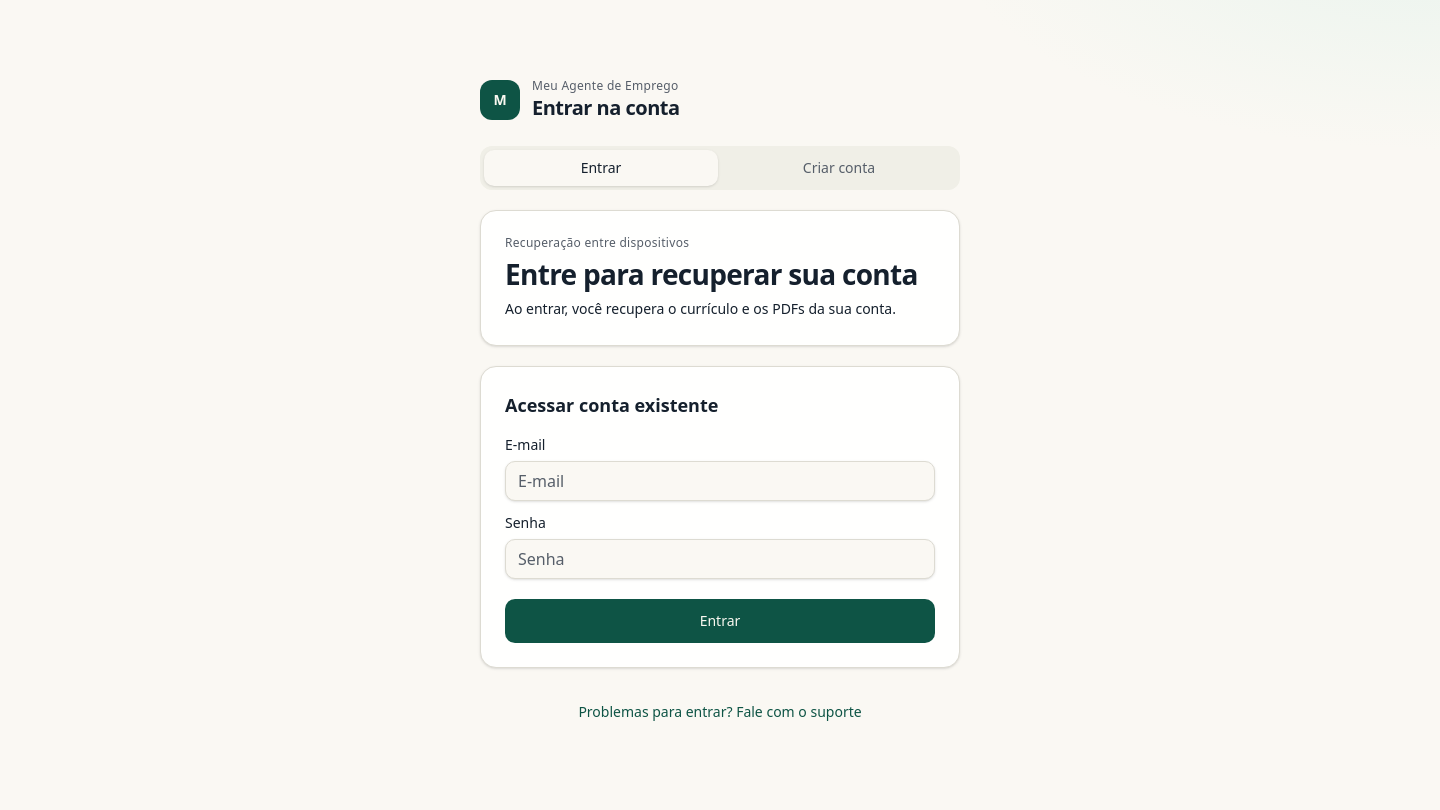
it: BDD W-CV › 4. Com CV o inicio mostra a analise e nao o card de envio
Type "ada@example.com" into the field with test id "login-email".
click(720, 481); type("ada@example.com")  # box x1=505 y1=461 x2=935 y2=501
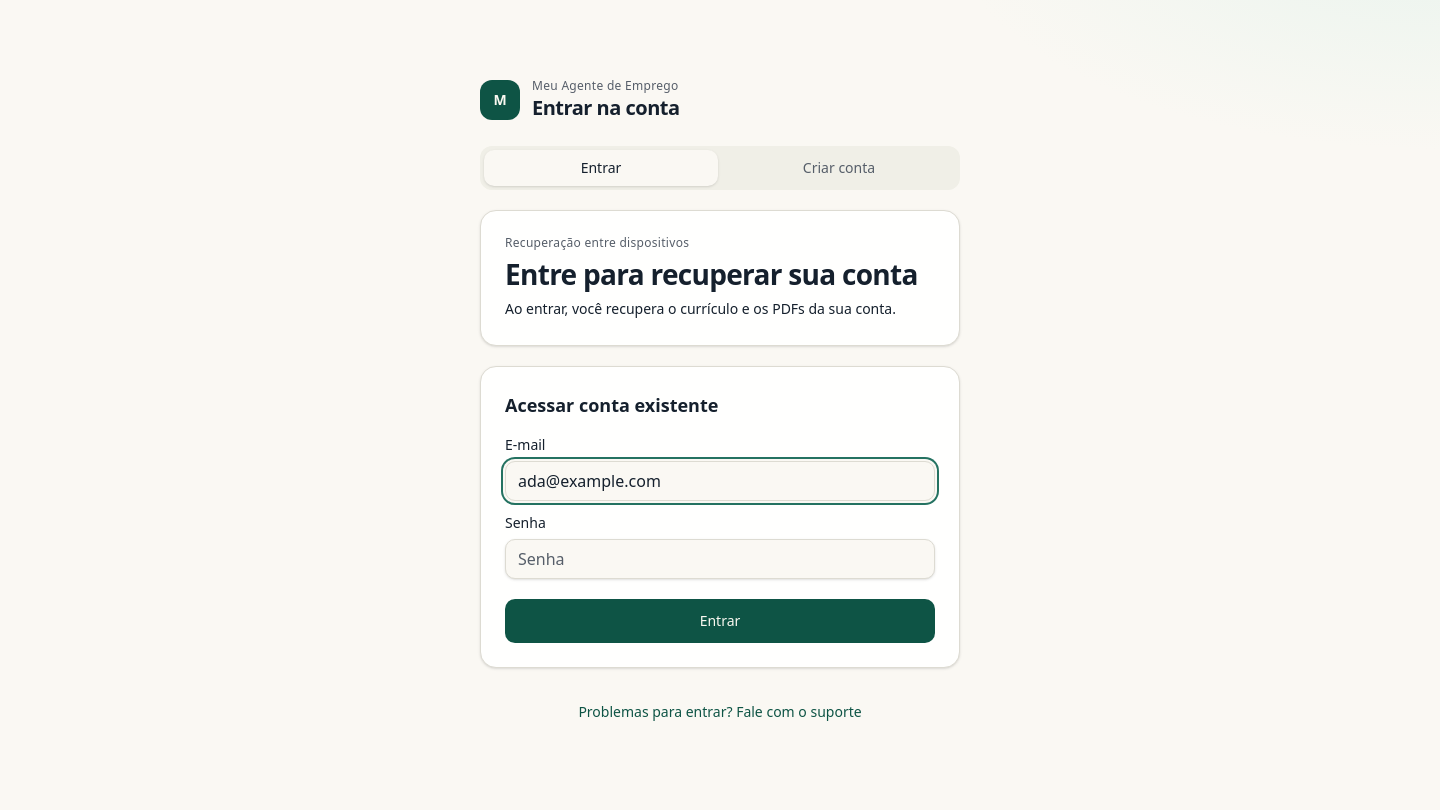
Type "senha-segura" into the password field with test id "login-password".
click(720, 559); type("senha-segura")  # box x1=505 y1=539 x2=935 y2=579
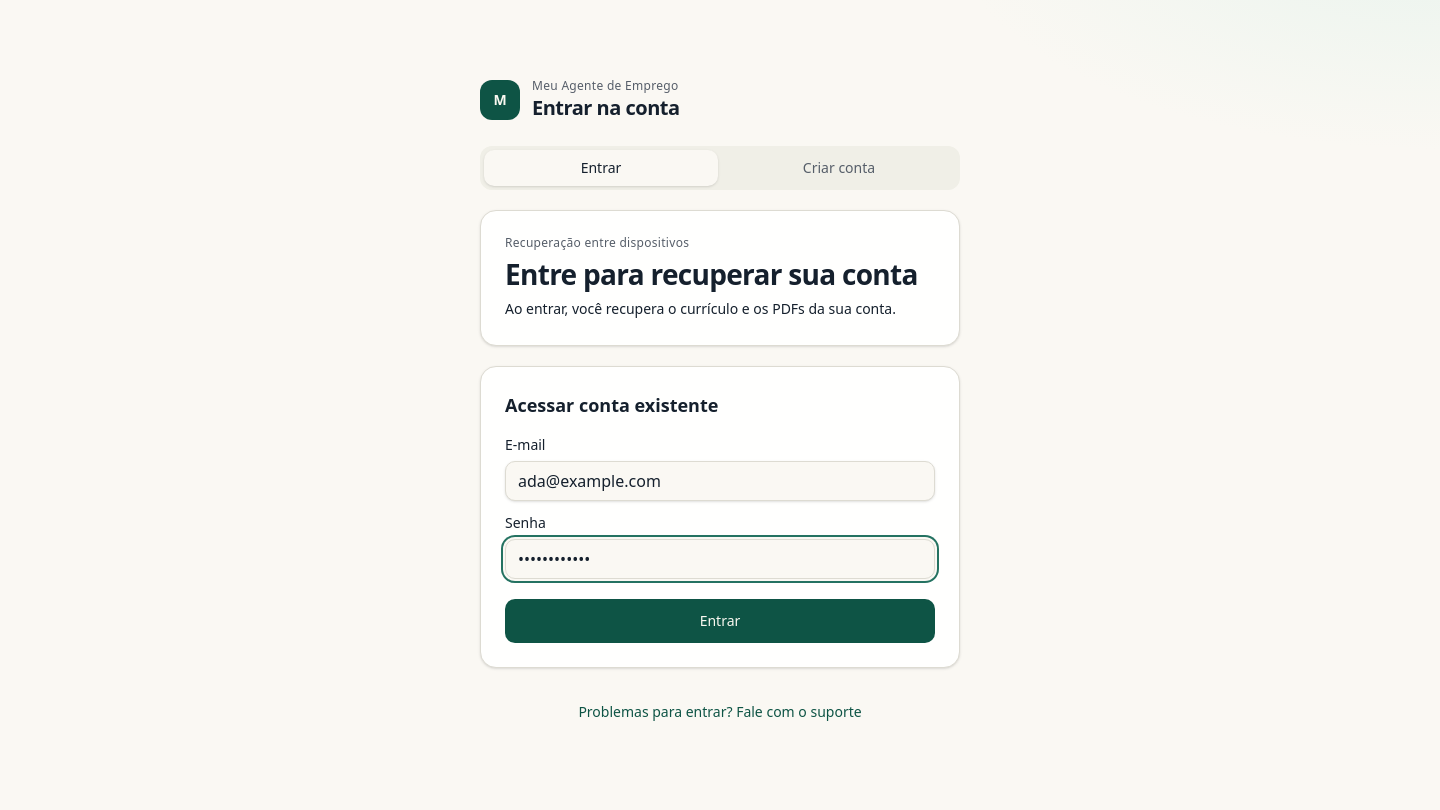
Click the button with test id "login-submit".
click(720, 621)  # box x1=505 y1=599 x2=935 y2=643
(page scrolled)
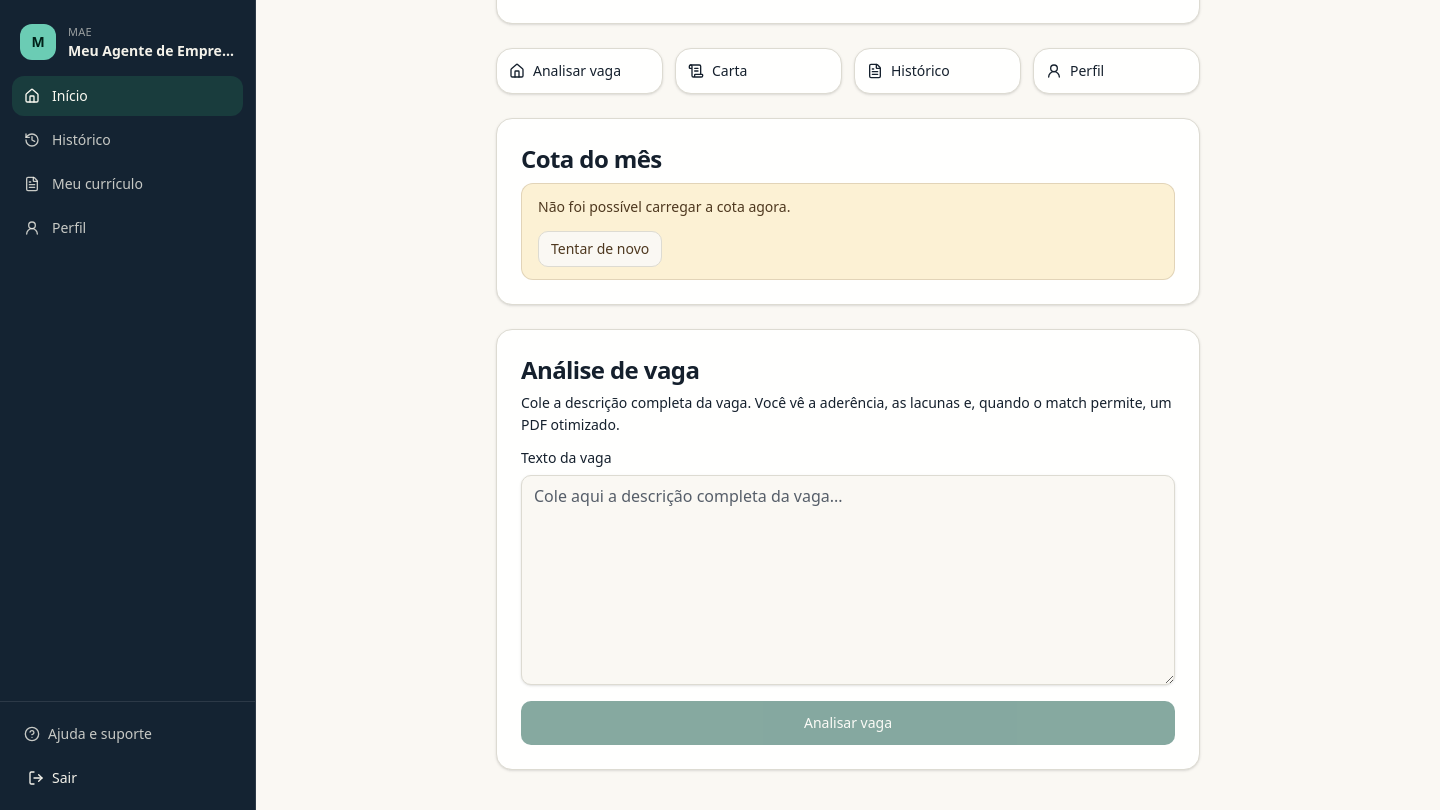
Expected: the element with test id "processar-panel" is shown, x1=496 y1=328 x2=1200 y2=770
Type "Vaga para desenvolvedor Python com requisitos e responsabilidades." into the text box with test id "processar-texto".
click(848, 580); type("Vaga para desenvolvedor Python com requisitos e responsabilidades.")  # box x1=521 y1=475 x2=1175 y2=685
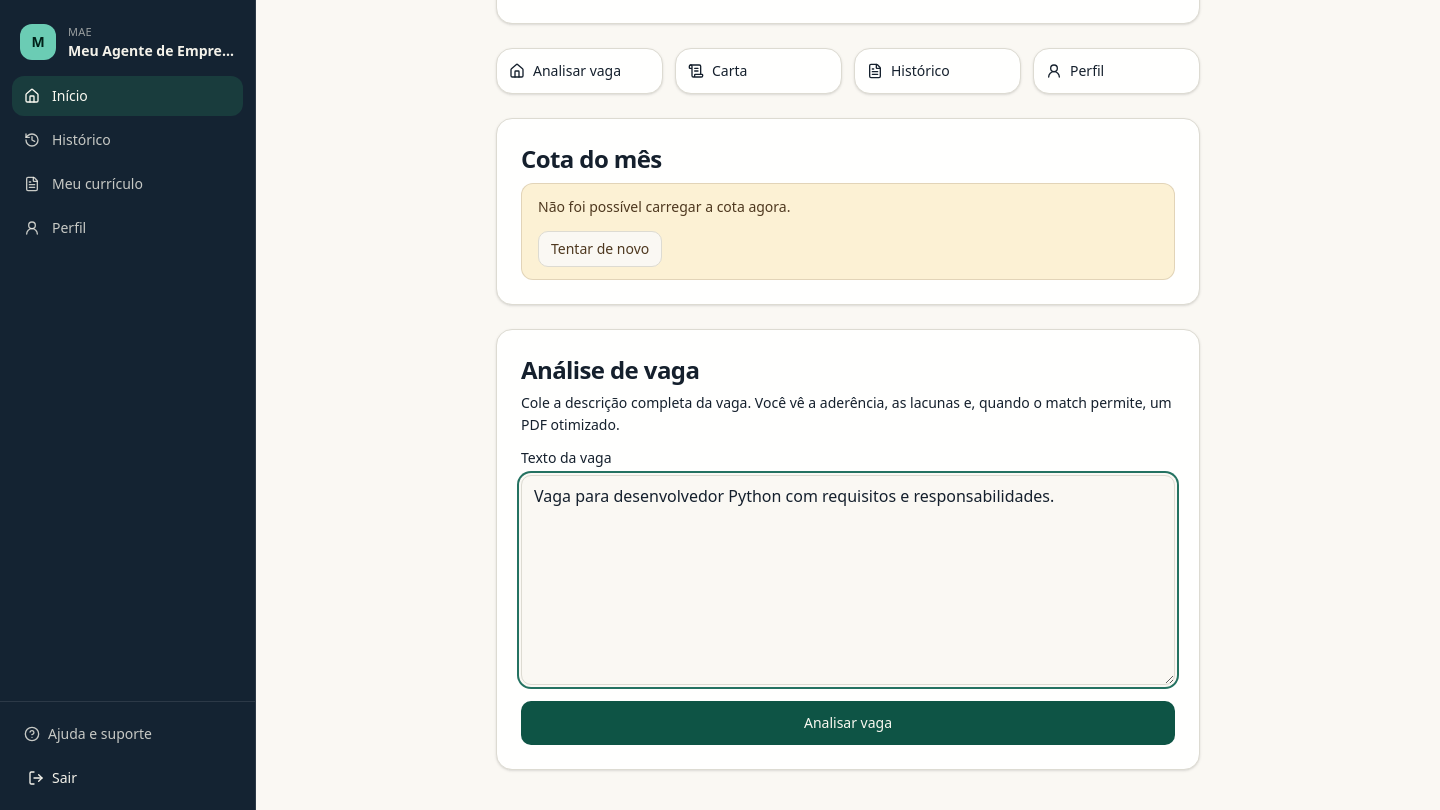
Expected: the button with test id "processar-submit" is enabled, x1=521 y1=701 x2=1175 y2=745
